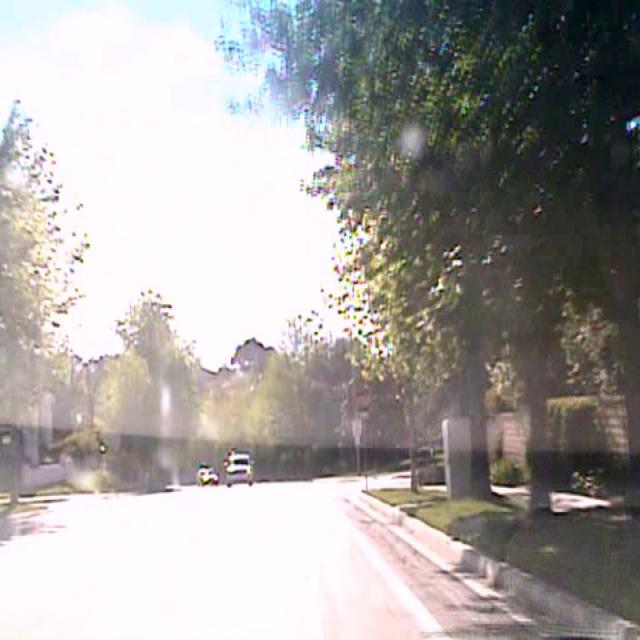stop: (353, 385, 370, 412)
